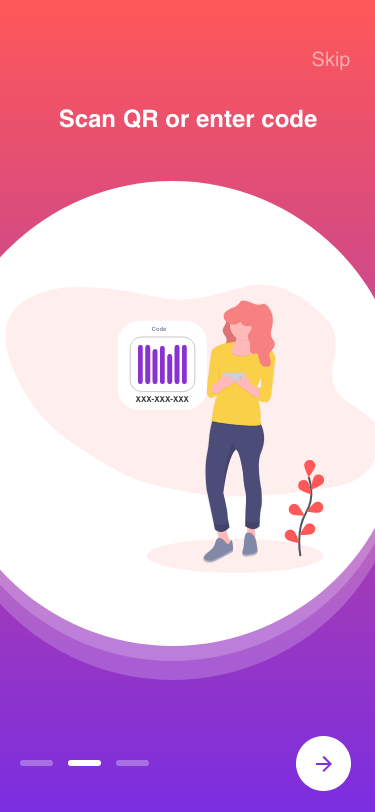Icon: (296, 736, 351, 791)
Image: (7, 285, 375, 573)
PageIndicator: (20, 759, 151, 767)
Text: (60, 110, 318, 129), (312, 51, 351, 72)
